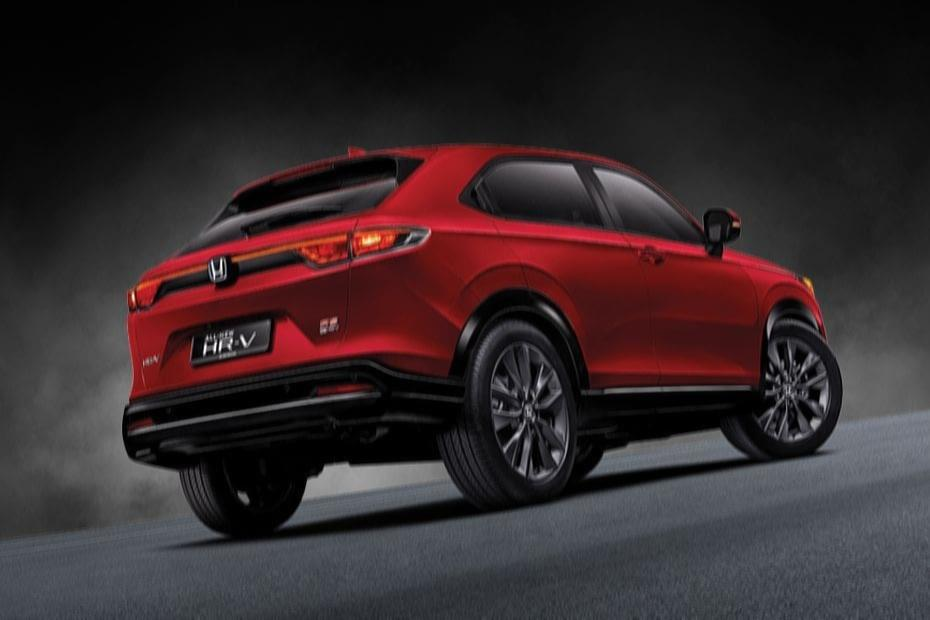Car boot: (138, 216, 409, 391)
Driver-s door - -F-R-: (596, 146, 759, 392)
Fender - -F-R-: (745, 244, 820, 423)
Fender - -R-R-: (347, 197, 536, 423)
Headlight - -R-: (775, 253, 831, 301)
Passenger-s door - -R-R-: (488, 149, 661, 392)
Rear bumper: (111, 356, 475, 468)
Rear light - -L-: (114, 259, 171, 315)
Rear light - -R-: (290, 219, 430, 275)
Side bumper - -R-: (570, 375, 778, 441)
Side mirror - -R-: (693, 190, 747, 265)
